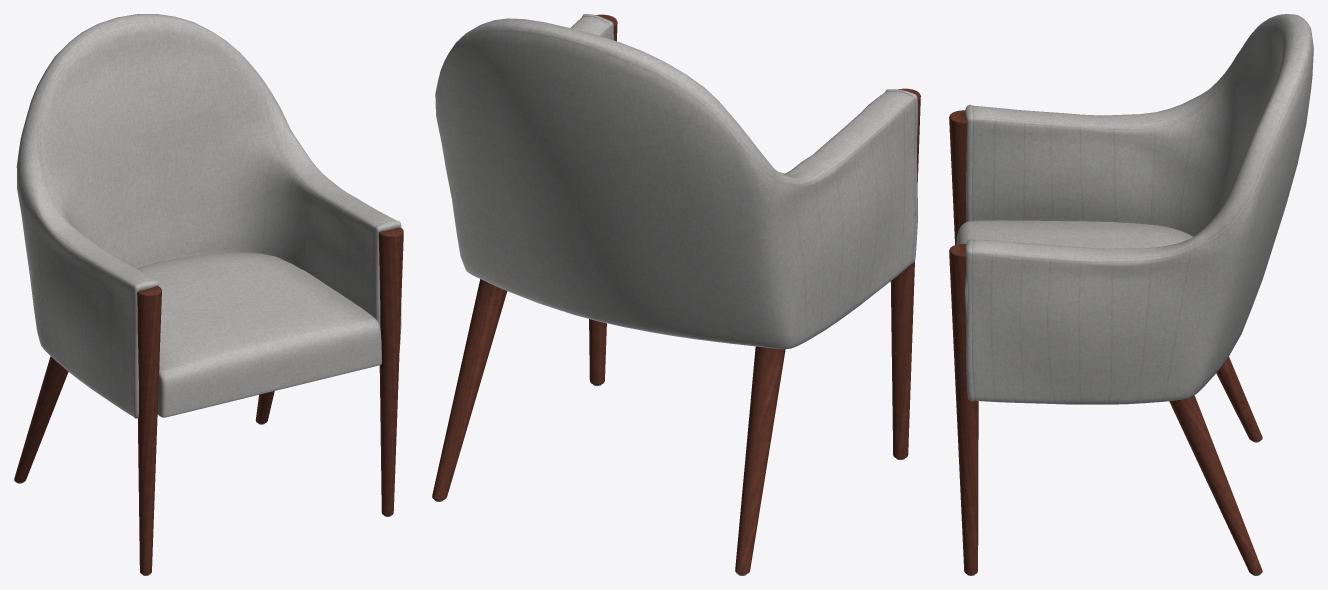
Rendered from B07QBQCG77.glb.
3 renders of one model, left to right at view 1: azimuth 30°, elevation 25°; view 2: azimuth 150°, elevation 25°; view 3: azimuth 270°, elevation 25°, orthographic. The views are drawn at different scales.
Parts seen in each view (by area): view 1: RootNode; view 2: RootNode; view 3: RootNode.
Boxes of the visible parts, box(x1,y1,x2,y2) form: RootNode: box(14, 14, 403, 575); RootNode: box(432, 14, 920, 575); RootNode: box(949, 14, 1313, 575).
Size of the model in its own units: 0.6096 by 0.889 by 0.62.
1 material, 1 textured.
